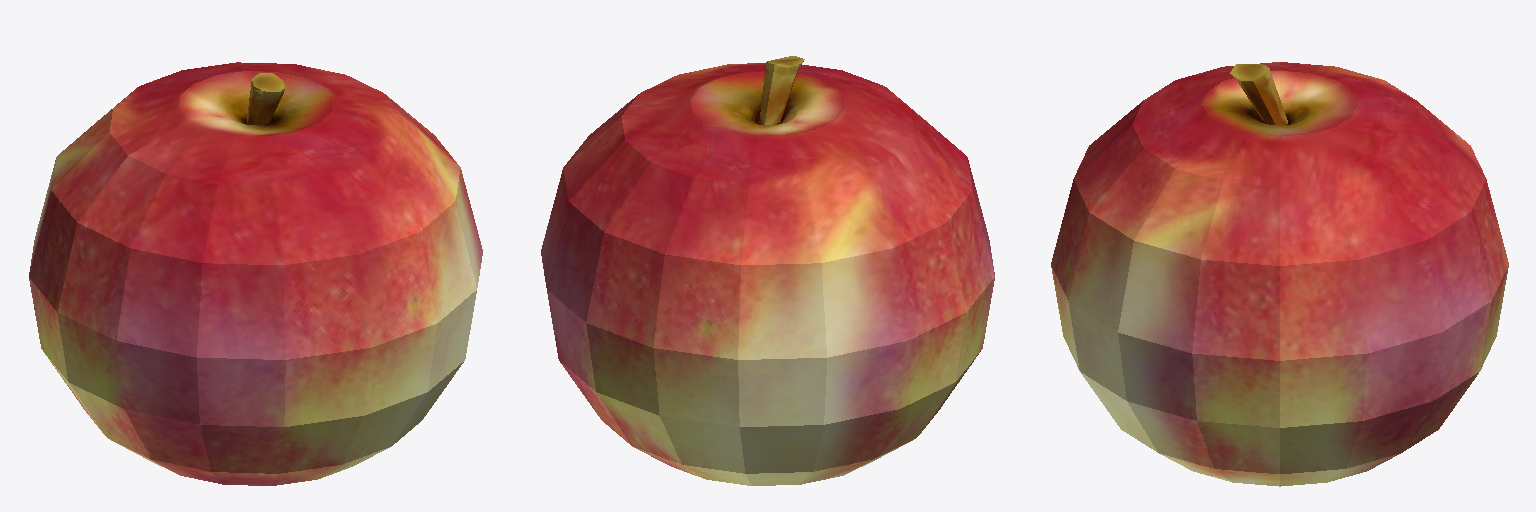
3 views of the same model, side by side, from view 1: azimuth 30°, elevation 25°; view 2: azimuth 150°, elevation 25°; view 3: azimuth 270°, elevation 25° (orthographic).
Parts seen in each view (by area): view 1: Cube; view 2: Cube; view 3: Cube.
Boxes of the visible parts, <box> form: Cube: <box>29,62,482,485</box>; Cube: <box>541,56,994,485</box>; Cube: <box>1051,62,1508,486</box>.
Bounding box in the file's own units: 10.48 × 9.47 × 10.48.
Materials: 1 (1 with a texture image).